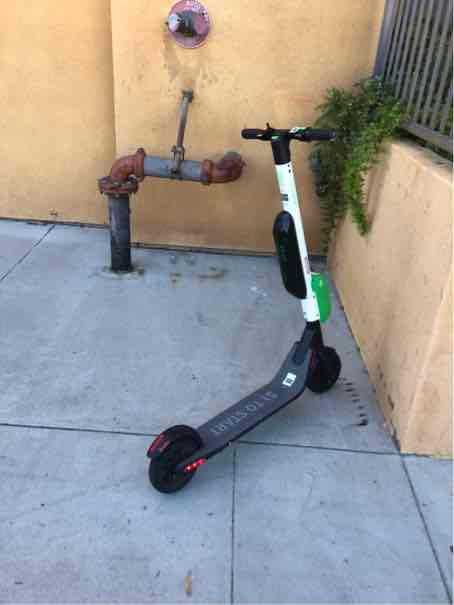scooter: (155, 112, 355, 492)
